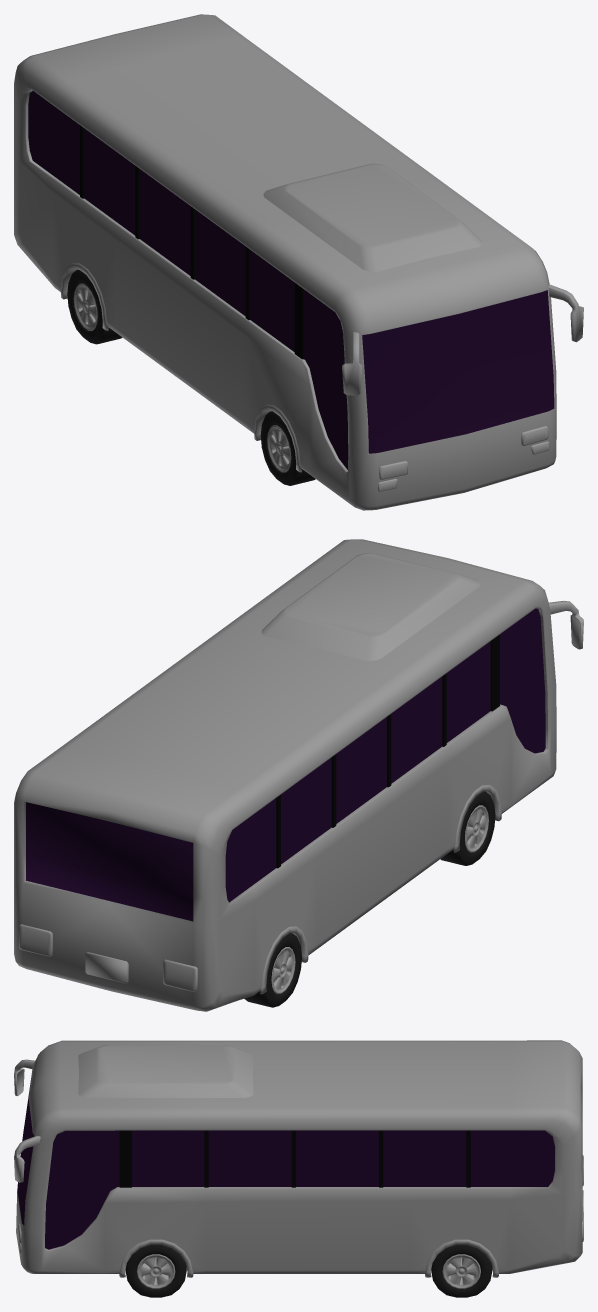
Rendered from Prop_Bus.FBX.
3 renders of one model, top to bottom at view 1: azimuth 30°, elevation 25°; view 2: azimuth 150°, elevation 25°; view 3: azimuth 270°, elevation 25°, orthographic. The views are drawn at different scales.
Parts seen in each view (by area): view 1: Object001; view 2: Object001; view 3: Object001.
Boxes of the visible parts, x1,y1,x2,y2 form: Object001: (14,14,583,510); Object001: (14,539,583,1011); Object001: (14,1040,583,1297).
Bounding box in the file's own units: 376 × 368 × 971.
